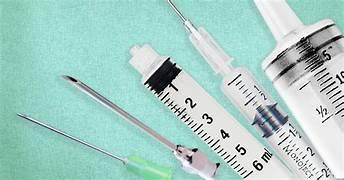Syringe: (168, 0, 332, 179), (130, 44, 290, 178), (63, 76, 219, 179), (254, 0, 343, 177), (17, 113, 171, 179)
